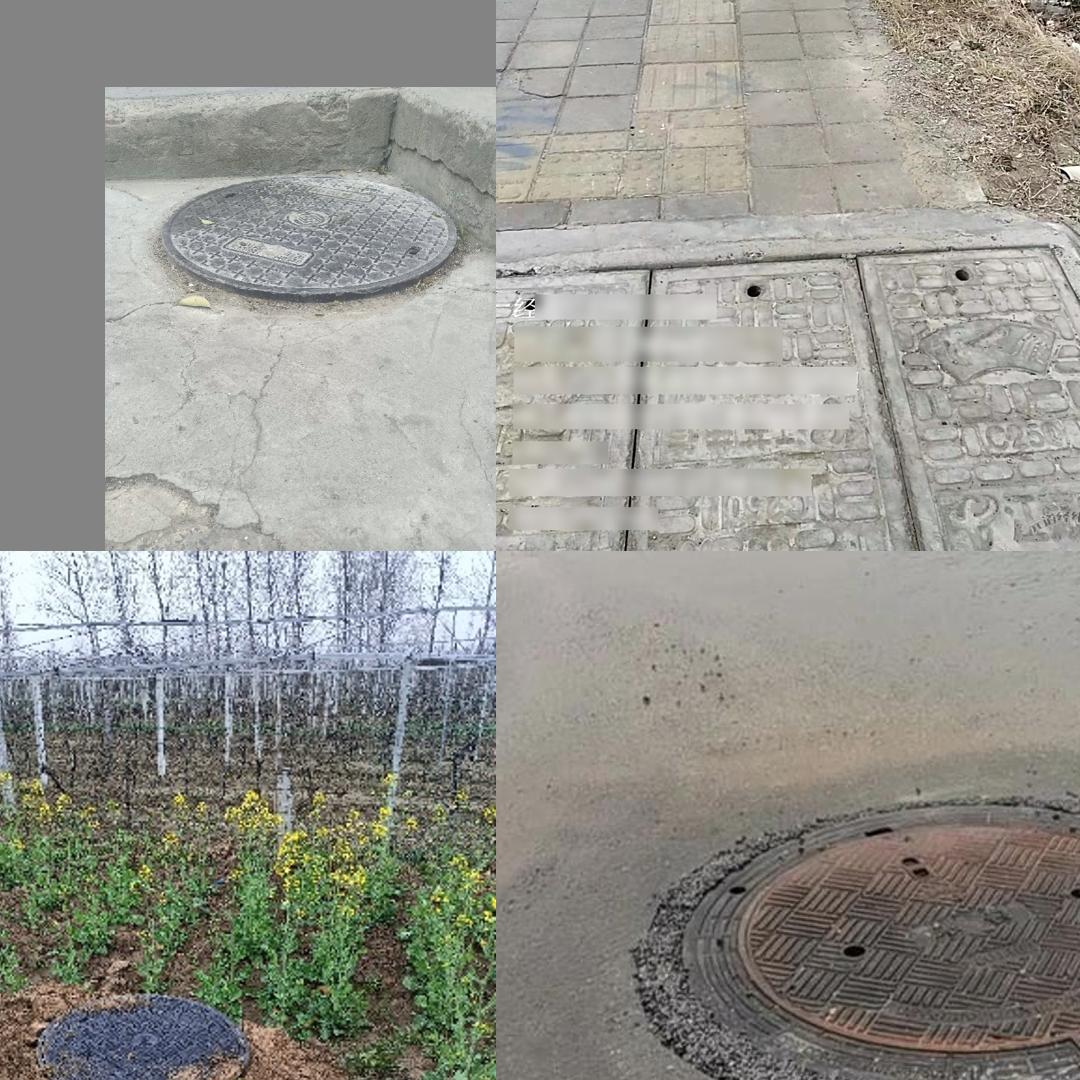good: (500, 227, 1080, 551), (609, 762, 1080, 1080), (161, 176, 458, 303), (40, 995, 251, 1080)
